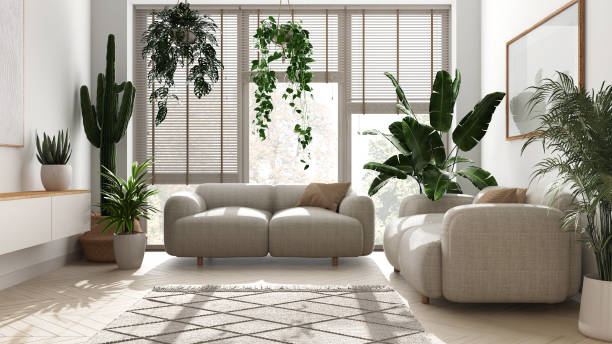large plant: (539, 75, 612, 344), (364, 69, 502, 197), (77, 32, 141, 264)
small plant: (98, 158, 157, 270), (32, 126, 74, 191)
sofa: (381, 184, 582, 309), (161, 179, 378, 270)
wall art: (504, 0, 587, 140)
